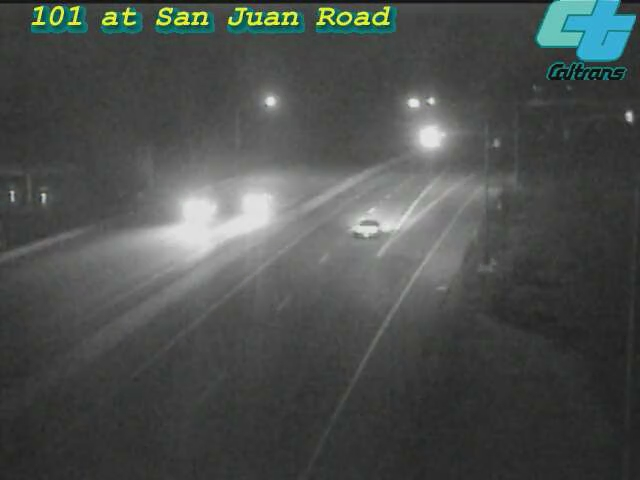vehicle: (159, 171, 239, 251), (211, 166, 291, 246), (329, 186, 409, 266), (400, 113, 450, 163)
